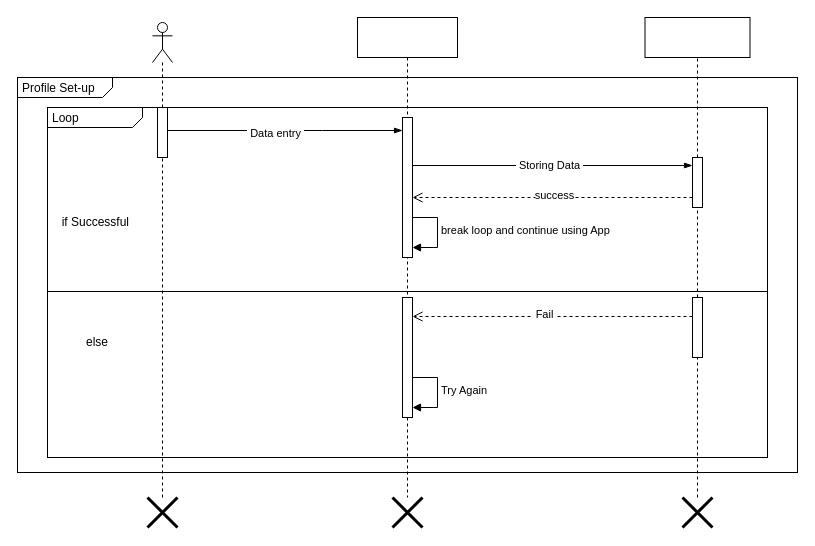
Image size: 815x546. Some labels were removed from this diagram. The centre of each missing label's shape, as x and y in pixels:
"AndroCom Application" goes at (407,257).
"Local Storage" goes at (697,37).
